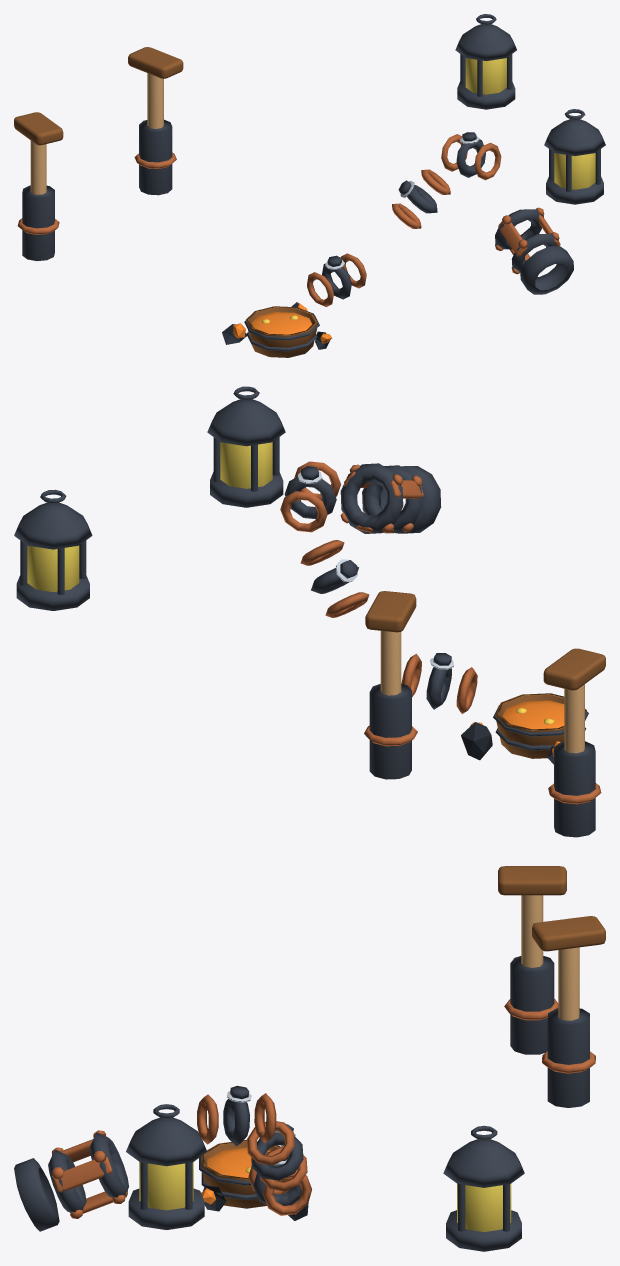
The model's file is LavaPump_T1_Upgrades.fbx.
3 views of the same model, one above another, from view 1: azimuth 30°, elevation 25°; view 2: azimuth 150°, elevation 25°; view 3: azimuth 270°, elevation 25° (orthographic). The views are drawn at different scales.
Parts seen in each view (by area): view 1: LavaPumpT1U1Clamps, LavaPumpT1U3Piston2, LavaPumpT1U3Piston1, LavaPumpT1U1Reinforce, LavaPumpT1U2Lamp1, LavaPumpT1U2Lamp2, LavaPumpT1U5Fountain, LavaPumpT1U2Lamp1Glow, LavaPumpT1U2Lamp2Glow, LavaPumpT1U5FountainGlow; view 2: LavaPumpT1U1Clamps, LavaPumpT1U3Piston1, LavaPumpT1U3Piston2, LavaPumpT1U1Reinforce, LavaPumpT1U2Lamp1, LavaPumpT1U2Lamp2, LavaPumpT1U5Fountain, LavaPumpT1U2Lamp1Glow, LavaPumpT1U2Lamp2Glow, LavaPumpT1U5FountainGlow, LavaPumpT1U5GlowRocks; view 3: LavaPumpT1U3Piston2, LavaPumpT1U1Clamps, LavaPumpT1U3Piston1, LavaPumpT1U1Reinforce, LavaPumpT1U2Lamp2, LavaPumpT1U2Lamp1, LavaPumpT1U5Fountain, LavaPumpT1U2Lamp2Glow, LavaPumpT1U2Lamp1Glow, LavaPumpT1U5FountainGlow.
Part boxes in pixels (x1,y1,x2,y2): LavaPumpT1U1Clamps: (307,132,501,306); LavaPumpT1U3Piston2: (128,47,183,195); LavaPumpT1U3Piston1: (14,112,63,260); LavaPumpT1U1Reinforce: (495,207,573,294); LavaPumpT1U2Lamp1: (455,14,516,109); LavaPumpT1U2Lamp2: (544,109,605,204); LavaPumpT1U5Fountain: (244,306,319,357); LavaPumpT1U2Lamp1Glow: (465,58,506,94); LavaPumpT1U2Lamp2Glow: (554,153,595,189); LavaPumpT1U5FountainGlow: (251,312,312,334); LavaPumpT1U1Clamps: (280,461,477,713); LavaPumpT1U3Piston1: (543,648,605,837); LavaPumpT1U3Piston2: (364,591,417,779); LavaPumpT1U1Reinforce: (340,463,440,533); LavaPumpT1U2Lamp1: (14,489,92,610); LavaPumpT1U2Lamp2: (207,386,285,507); LavaPumpT1U5Fountain: (493,693,588,758); LavaPumpT1U2Lamp1Glow: (27,545,79,592); LavaPumpT1U2Lamp2Glow: (220,442,272,488); LavaPumpT1U5FountainGlow: (502,700,564,729); LavaPumpT1U5GlowRocks: (461,722,553,764); LavaPumpT1U3Piston2: (532,916,605,1107); LavaPumpT1U1Clamps: (197,1085,311,1215); LavaPumpT1U3Piston1: (498,866,566,1054); LavaPumpT1U1Reinforce: (14,1130,128,1231); LavaPumpT1U2Lamp2: (126,1104,207,1229); LavaPumpT1U2Lamp1: (443,1125,524,1251); LavaPumpT1U5Fountain: (199,1140,285,1208); LavaPumpT1U2Lamp2Glow: (139,1162,193,1210); LavaPumpT1U2Lamp1Glow: (457,1184,511,1231); LavaPumpT1U5FountainGlow: (207,1147,270,1177).
Bounding box in the file's own units: 262 × 110 × 215.
